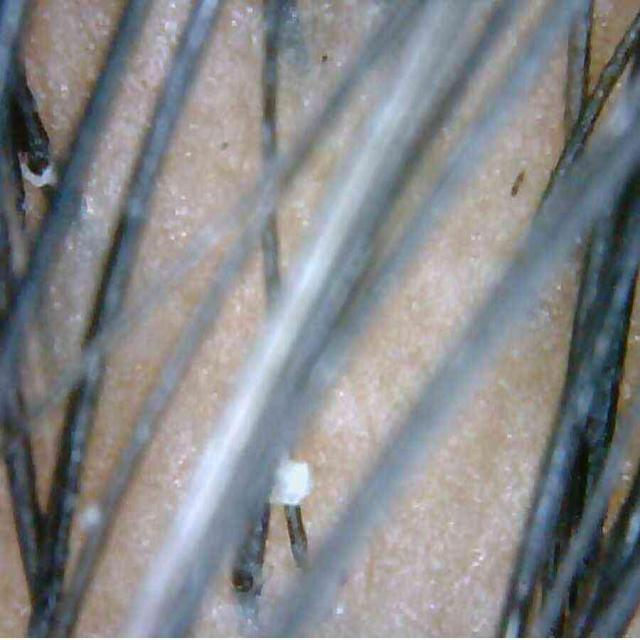d: (270, 460, 312, 505), (19, 152, 58, 187), (79, 504, 101, 530)
o: (64, 126, 144, 293), (136, 14, 191, 96), (281, 0, 334, 73), (153, 184, 200, 255)
